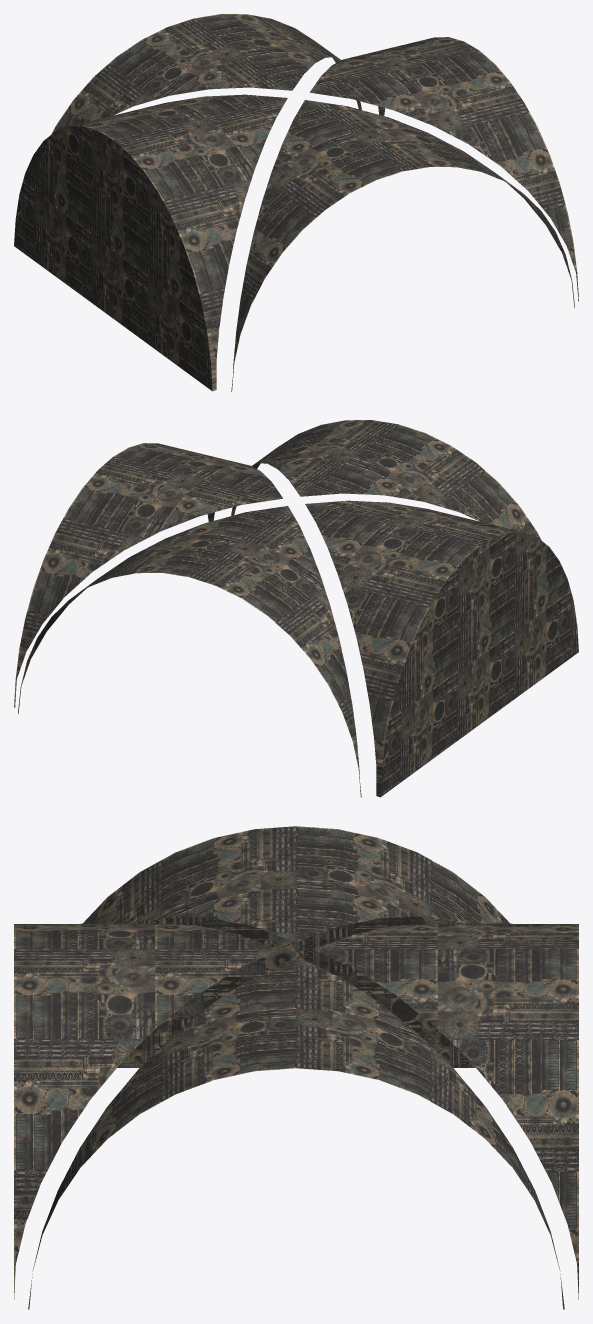
3 views of the same model, one above another, from view 1: azimuth 30°, elevation 25°; view 2: azimuth 150°, elevation 25°; view 3: azimuth 270°, elevation 25° (orthographic). The views are drawn at different scales.
Parts seen in each view (by area): view 1: SM_Censer02_LOD0; view 2: SM_Censer02_LOD0; view 3: SM_Censer02_LOD0.
Part boxes in pixels (x1=…): SM_Censer02_LOD0: x1=14, y1=14, x2=578, y2=391; SM_Censer02_LOD0: x1=14, y1=420, x2=578, y2=797; SM_Censer02_LOD0: x1=14, y1=826, x2=578, y2=1309.
Bounding box in the file's own units: 8.1 × 3.78 × 8.
